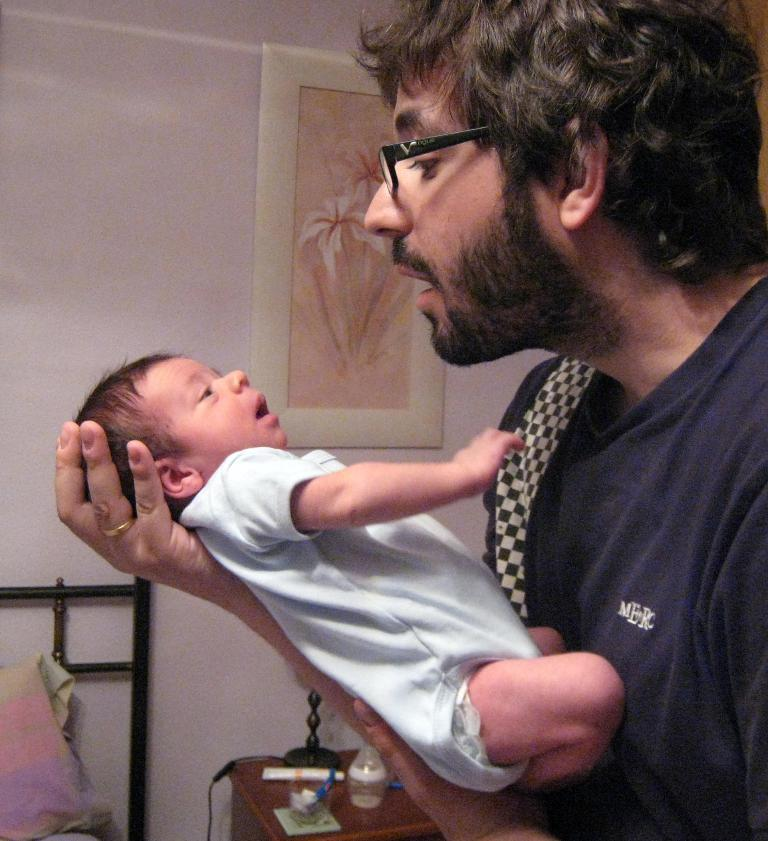Sem Máscara: (361, 77, 554, 367), (137, 351, 288, 469)
